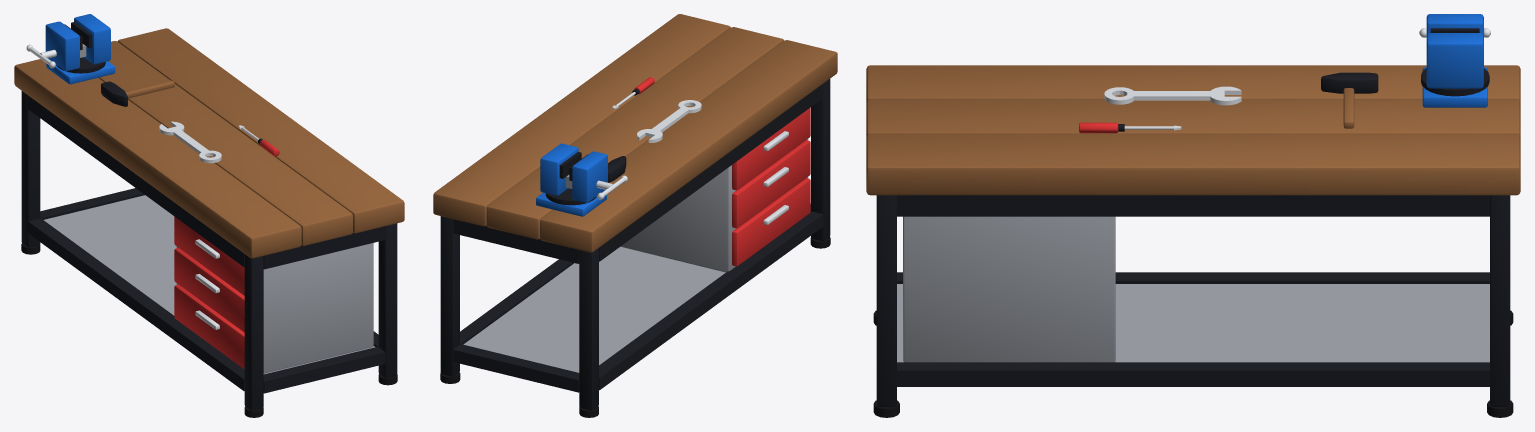
The model's file is G_Workbench.fbx.
3 renders of one model, left to right at view 1: azimuth 30°, elevation 25°; view 2: azimuth 150°, elevation 25°; view 3: azimuth 270°, elevation 25°, orthographic. The views are drawn at different scales.
Parts seen in each view (by area): view 1: Wood, Dark.001, Metal.001, Red, Blue, Chrome.001, Rubber.001; view 2: Wood, Dark.001, Metal.001, Red, Blue, Chrome.001, Rubber.001; view 3: Wood, Metal.001, Dark.001, Blue, Chrome.001, Rubber.001.
Boxes of the visible parts, x1,y1,x2,y2 form: Wood: (14,28,404,258); Dark.001: (21,22,397,410); Metal.001: (44,44,375,374); Red: (174,140,279,368); Blue: (45,14,115,84); Chrome.001: (26,44,258,329); Rubber.001: (21,243,397,417); Wood: (433,14,837,252); Dark.001: (440,79,830,410); Metal.001: (463,139,808,372); Red: (634,77,810,266); Blue: (536,143,607,216); Chrome.001: (596,92,788,224); Rubber.001: (440,237,830,417); Wood: (866,65,1520,195); Metal.001: (897,216,1489,362); Dark.001: (876,28,1510,406); Blue: (1422,14,1487,107); Chrome.001: (1104,28,1490,130); Rubber.001: (873,310,1513,417).
Bounding box in the file's own units: 3 × 4.25 × 8.
